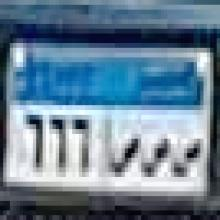6: (21, 111, 44, 171), (48, 111, 68, 174), (72, 115, 93, 174)
saad: (171, 137, 206, 181), (110, 134, 140, 180), (143, 134, 169, 176)
